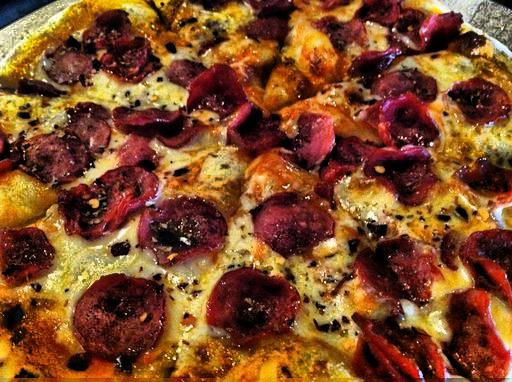pizza: (2, 4, 512, 382)
